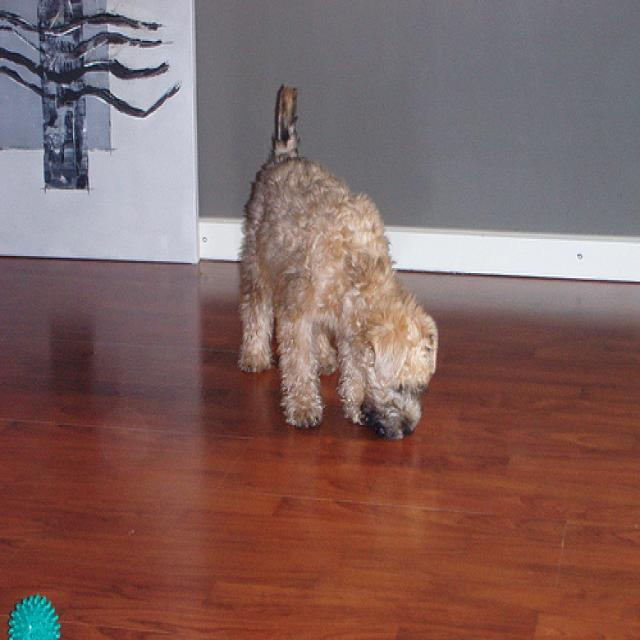dog: (360, 311, 435, 435)
